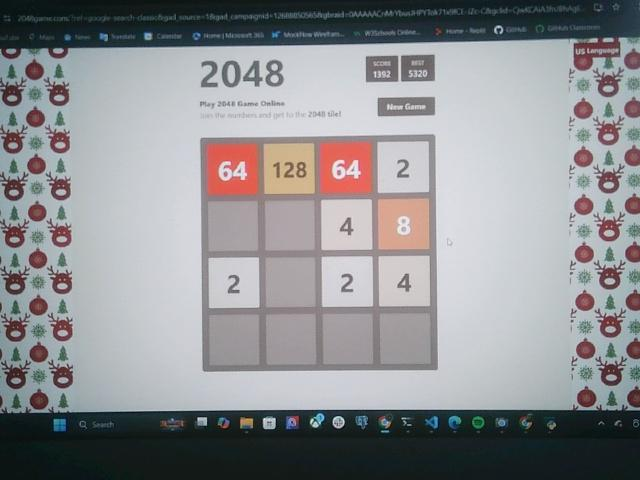board: (201, 137, 437, 368)
tile: (263, 143, 316, 195), (379, 256, 431, 308), (376, 142, 429, 193), (206, 143, 258, 194), (320, 143, 372, 194), (379, 199, 430, 251), (208, 257, 259, 308), (323, 199, 373, 250), (322, 257, 374, 306)
